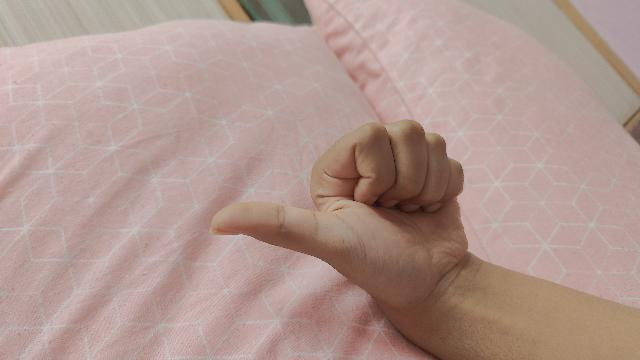shikhar: (211, 121, 640, 360)
